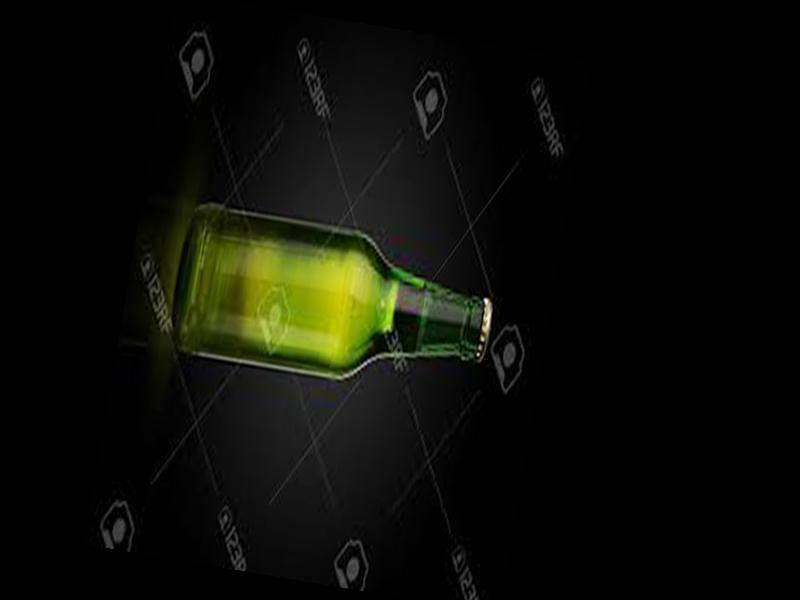Beer: (167, 205, 502, 405)
